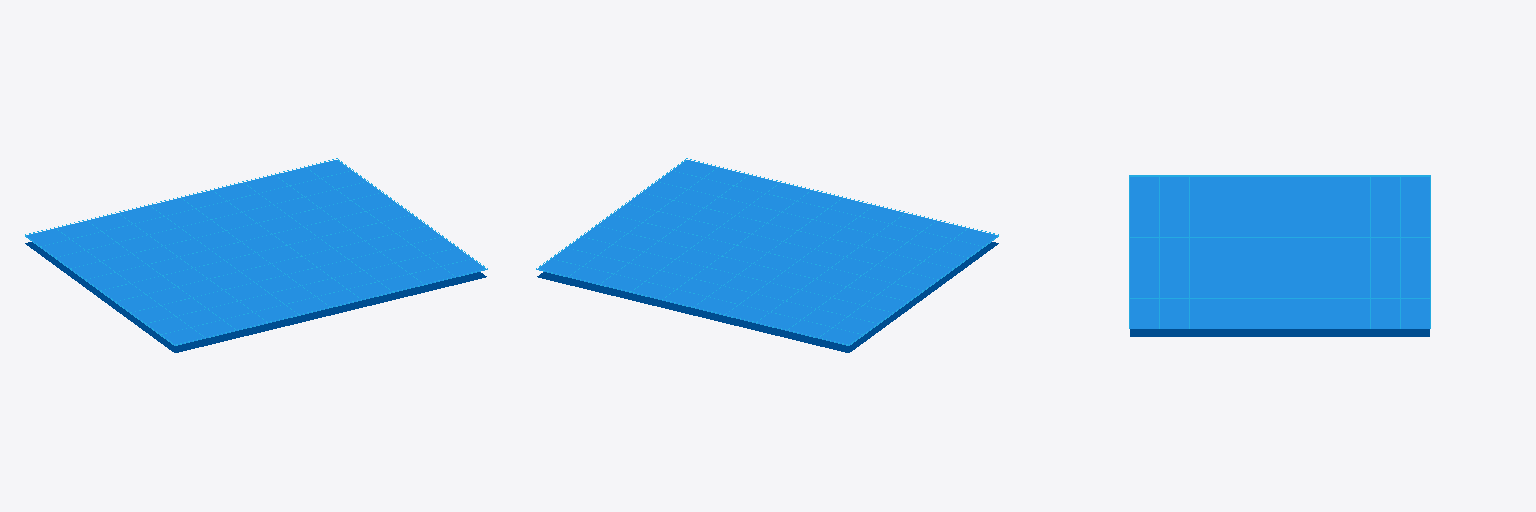
Rendered from floor.obj.
The picture shows the model from 3 angles: view 1: azimuth 30°, elevation 25°; view 2: azimuth 150°, elevation 25°; view 3: azimuth 270°, elevation 25°; orthographic projection.
Parts seen in each view (by area): view 1: floor2, floor1, lines; view 2: floor2, floor1, lines; view 3: floor2, floor1, lines, border2.
Boxes of the visible parts, x1,y1,x2,y2 form: floor2: [27, 160, 486, 345]; floor1: [25, 242, 486, 352]; lines: [25, 160, 487, 345]; floor2: [537, 160, 996, 345]; floor1: [537, 242, 998, 352]; lines: [536, 160, 998, 345]; floor2: [1130, 177, 1429, 328]; floor1: [1130, 329, 1429, 336]; lines: [1129, 176, 1430, 328]; border2: [1129, 175, 1430, 327].
Bounding box in the file's own units: 1202 × 31.23 × 1002.